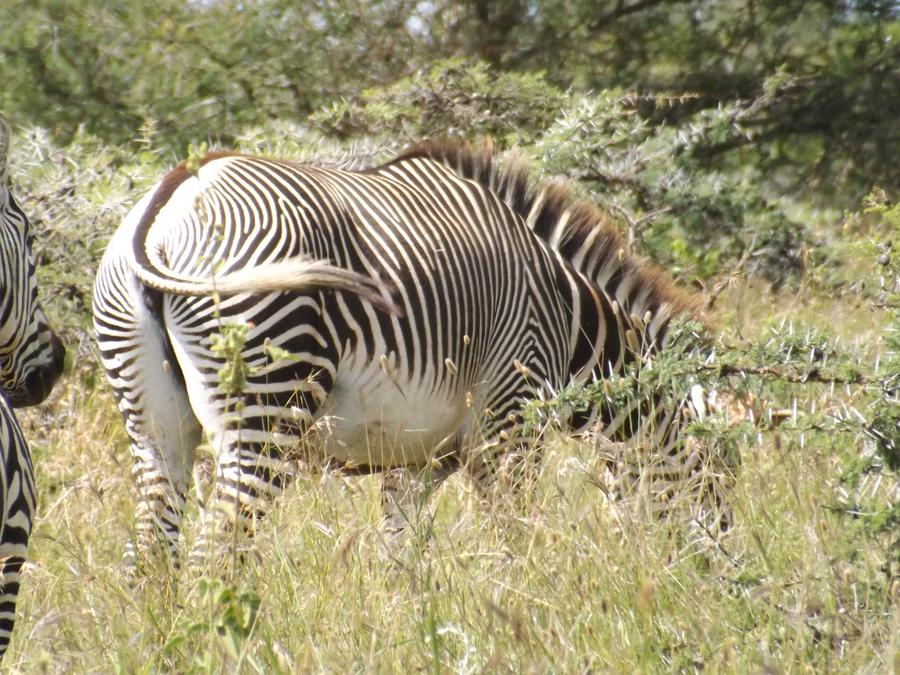zebra_grevys: (187, 164, 542, 407)
